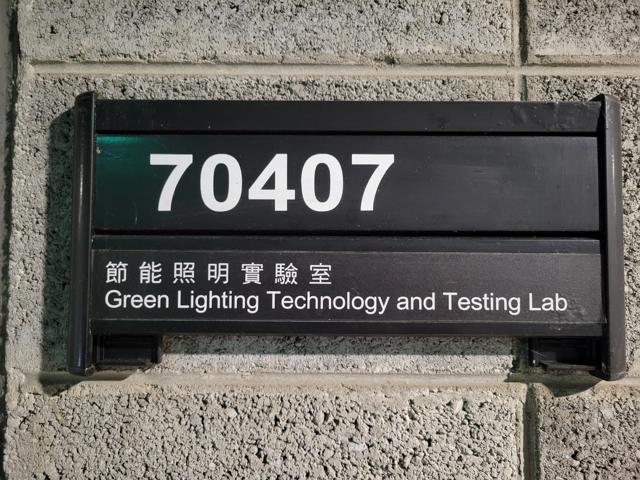doorplate: (61, 89, 630, 388)
